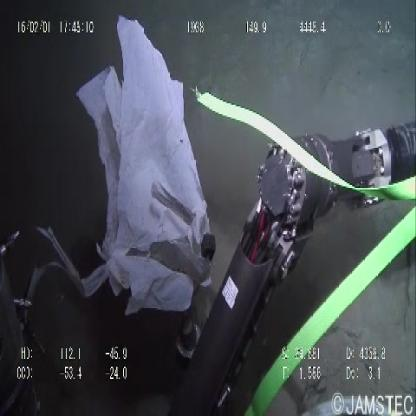Rov: (185, 91, 416, 404)
Rác: (66, 9, 209, 319)
